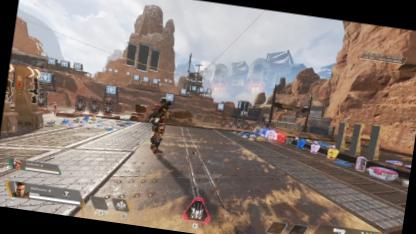Target: (147, 93, 170, 155), (52, 99, 58, 114)
